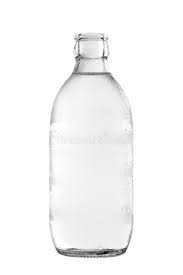bottle: (45, 26, 138, 262)
